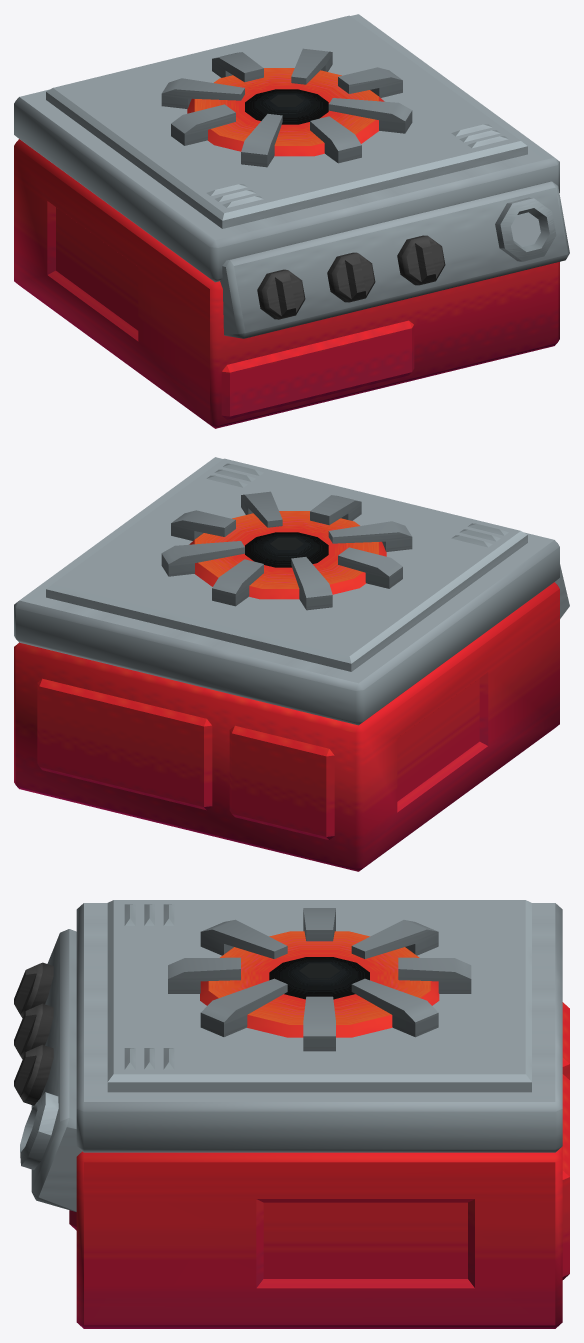
The model's file is stove_single.gltf.
3 renders of one model, top to bottom at view 1: azimuth 30°, elevation 25°; view 2: azimuth 150°, elevation 25°; view 3: azimuth 270°, elevation 25°, orthographic. The views are drawn at different scales.
Parts seen in each view (by area): view 1: stove_single; view 2: stove_single; view 3: stove_single.
Part boxes in pixels (<box>): stove_single: <box>14,14,569,428</box>; stove_single: <box>14,457,569,871</box>; stove_single: <box>14,900,569,1328</box>.
Size of the model in its own units: 2 by 1.21 by 2.29.
Materials: 1 (1 with a texture image).
